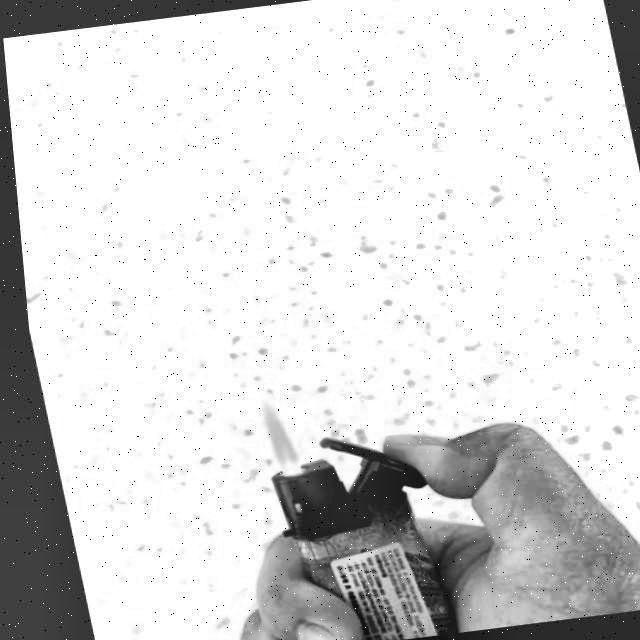Fire: (247, 392, 293, 468)
